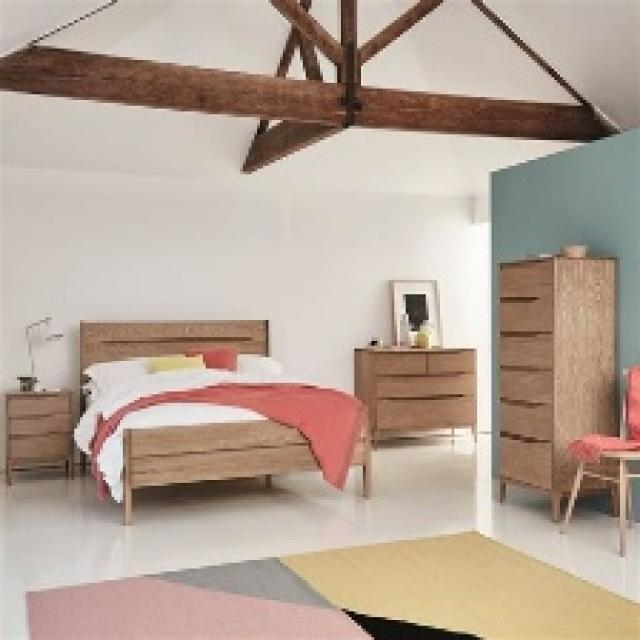Bed: (75, 317, 372, 523)
